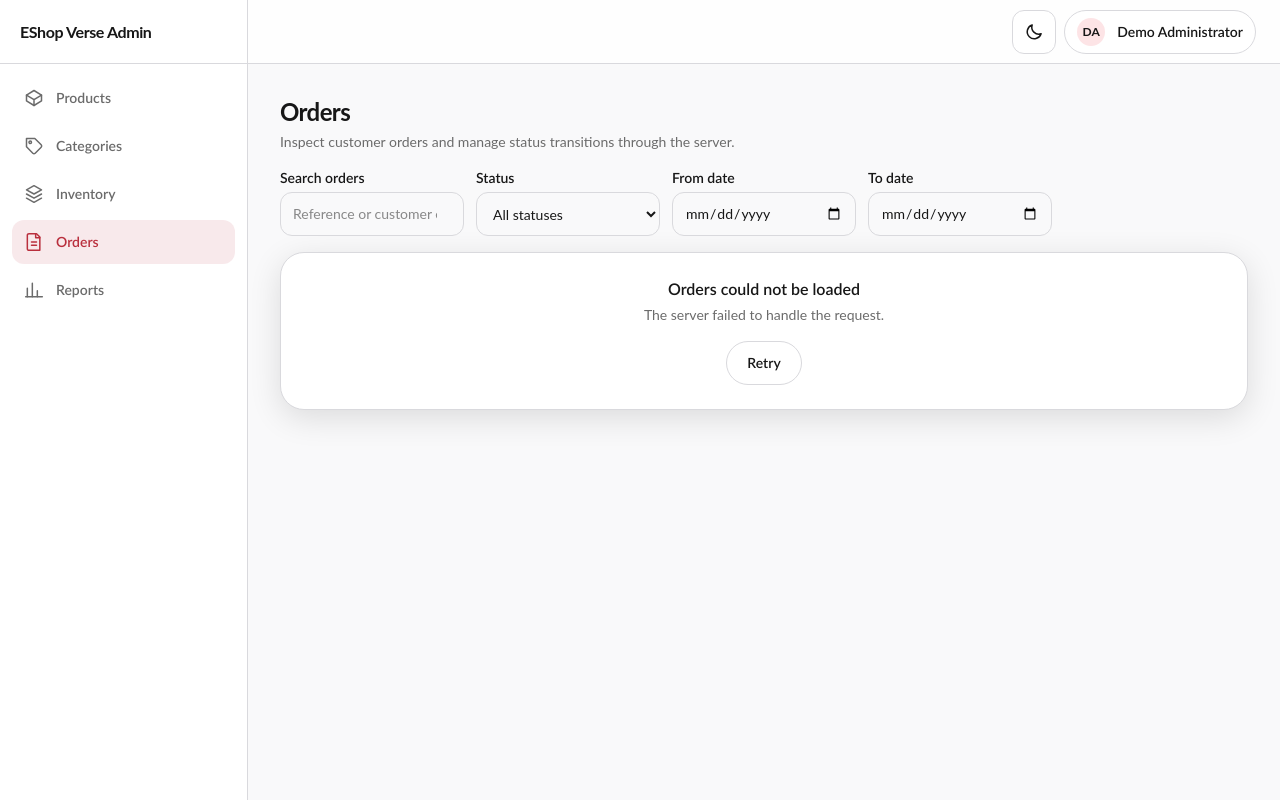
Scenario: OrdersPage (A-06) › orders_error_state_retries_and_recovers
The image size is (1280, 800).
Expected: the text "Orders could not be loaded" is shown, [668,279,860,298]
Expected: the text "The server failed to handle the request." is shown, [644,306,884,323]
Click the button "Retry": (764, 363) [726,341,802,385]
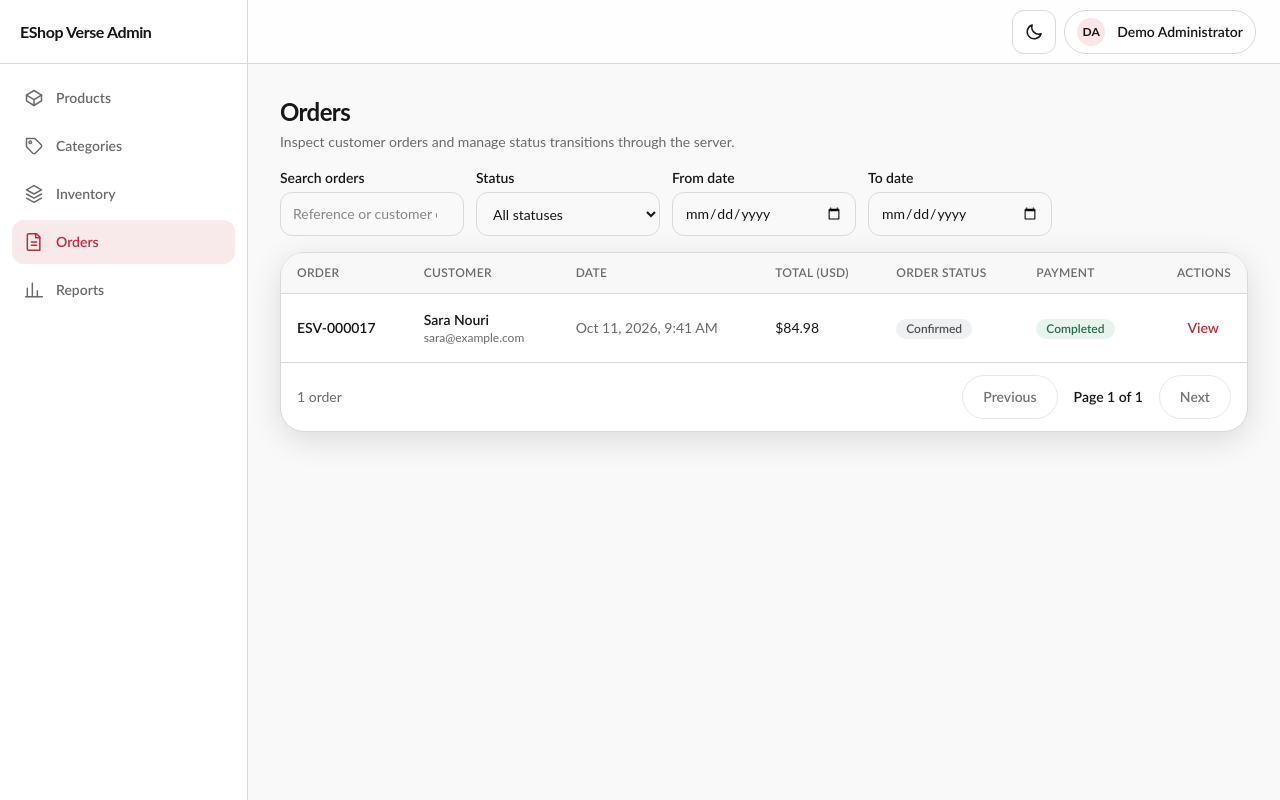
Result: the text "ESV-000017" is shown at [281,294,408,362]
